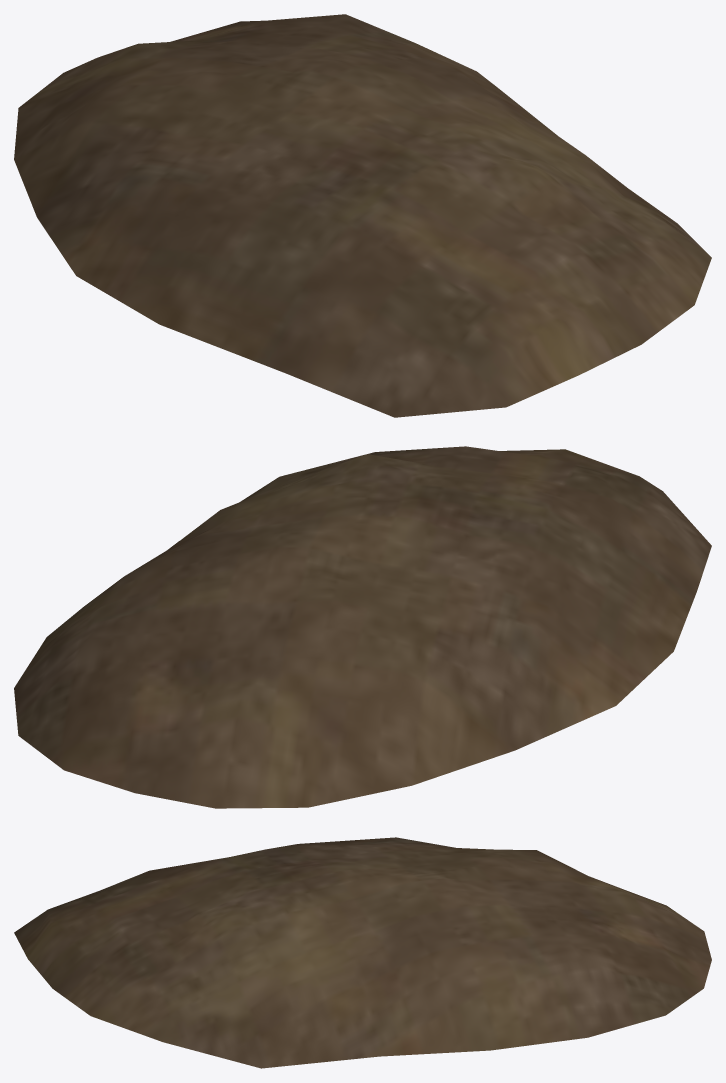
Rendered from SM_Dirt_Mound_D.glb.
The picture shows the model from 3 angles, top to bottom: view 1: azimuth 30°, elevation 25°; view 2: azimuth 150°, elevation 25°; view 3: azimuth 270°, elevation 25°; orthographic projection. The views are drawn at different scales.
Parts seen in each view (by area): view 1: SM_Dirt_Mound_D; view 2: SM_Dirt_Mound_D; view 3: SM_Dirt_Mound_D.
Boxes of the visible parts, box(x1,y1,x2,y2) form: SM_Dirt_Mound_D: box(14, 14, 711, 417); SM_Dirt_Mound_D: box(14, 446, 711, 808); SM_Dirt_Mound_D: box(14, 837, 711, 1068).
Size of the model in its own units: 0.7117 by 0.1675 by 1.07.
Materials: 1 (1 with a texture image).
